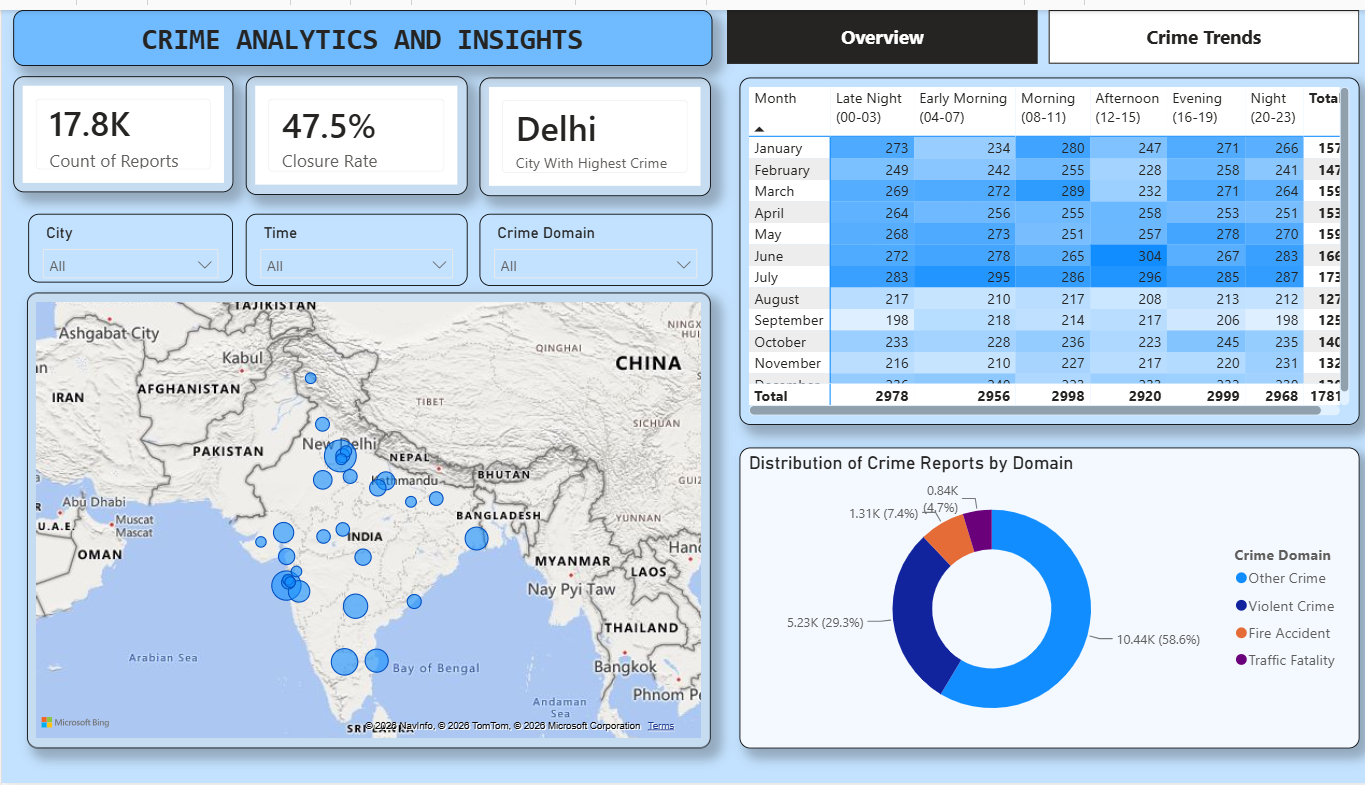

What the dashboard file says about the page in this screenshot:
{"tool":"powerbi","page":{"name":"Overview","canvas":[1280,720],"ordinal":0},"visuals":[{"type":"textbox","box":[10,0,650,51.7],"z":0},{"type":"cardVisual","title":"No. of Crimes ","fields":{"Data":["CountNonNull(crime_dataset_india.Report Number)"]},"box":[10,61.7,205,108.3],"z":1000},{"type":"cardVisual","fields":{"Data":["crime_dataset_india.Closed Cases"]},"box":[226.7,61.7,206.7,110],"z":2000},{"type":"donutChart","title":"Count of Reports by Crime Domain","fields":{"Y":["CountNonNull(crime_dataset_india.Report Number)"],"Category":["crime_dataset_india.Crime Domain"]},"box":[680,406.7,583.3,280],"z":3000},{"type":"map","fields":{"Category":["crime_dataset_india.City"],"Size":["CountNonNull(crime_dataset_india.Report Number)"]},"box":[23.8,262.5,636.2,423.8],"z":4000},{"type":"slicer","fields":{"Values":["crime_dataset_india.City"]},"box":[23.3,190,190,64.4],"z":5000},{"type":"pageNavigator","box":[675,0,588.3,50],"z":6000},{"type":"cardVisual","fields":{"Data":["crime_dataset_india.City With Highest Crime"]},"box":[452.1,62.8,207,109.6],"z":7000},{"type":"pivotTable","fields":{"Rows":["crime_dataset_india.Month"],"Values":["CountNonNull(crime_dataset_india.Report Number)"],"Columns":["crime_dataset_india.Time Slot"]},"box":[680,63.3,577.8,332.2],"z":8000},{"type":"slicer","fields":{"Values":["crime_dataset_india.Time Slot"]},"box":[220,190,218.9,66.7],"z":9000},{"type":"slicer","fields":{"Values":["crime_dataset_india.Crime Domain"]},"box":[444.4,190,214.4,66.7],"z":10000}]}

Visuals, with their boxes in screenshot pixels (x1, y1, x2, y2), scaled from the page's 1280x720 canvas onto the 1365x785 screenshot:
textbox: bbox=(11, 0, 704, 56)
"No. of Crimes " cardVisual: bbox=(11, 67, 229, 185)
cardVisual - crime_dataset_india.Closed Cases: bbox=(242, 67, 462, 187)
"Count of Reports by Crime Domain" donutChart: bbox=(725, 443, 1347, 749)
map - crime_dataset_india.City x CountNonNull(crime_dataset_india.Report Number): bbox=(25, 286, 704, 748)
slicer - crime_dataset_india.City: bbox=(25, 207, 227, 277)
pageNavigator: bbox=(720, 0, 1347, 55)
cardVisual - crime_dataset_india.City With Highest Crime: bbox=(482, 68, 703, 188)
pivotTable - crime_dataset_india.Month x CountNonNull(crime_dataset_india.Report Number): bbox=(725, 69, 1341, 431)
slicer - crime_dataset_india.Time Slot: bbox=(235, 207, 468, 280)
slicer - crime_dataset_india.Crime Domain: bbox=(474, 207, 703, 280)
